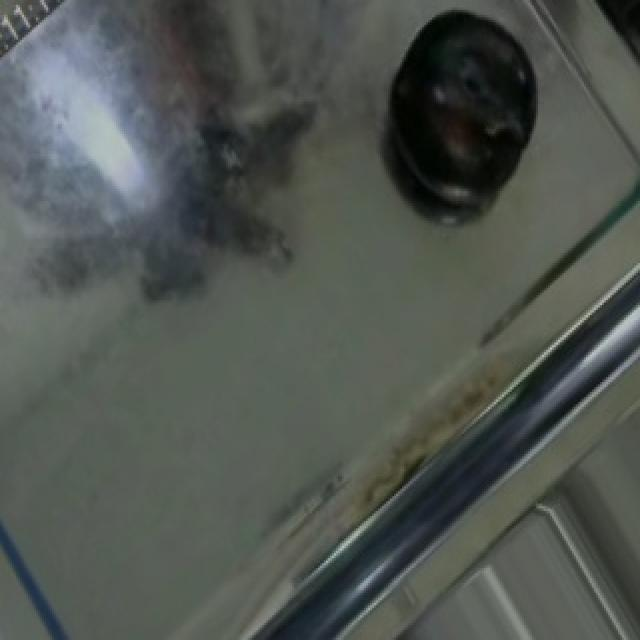Fruit: (362, 0, 566, 223), (578, 0, 640, 79)
